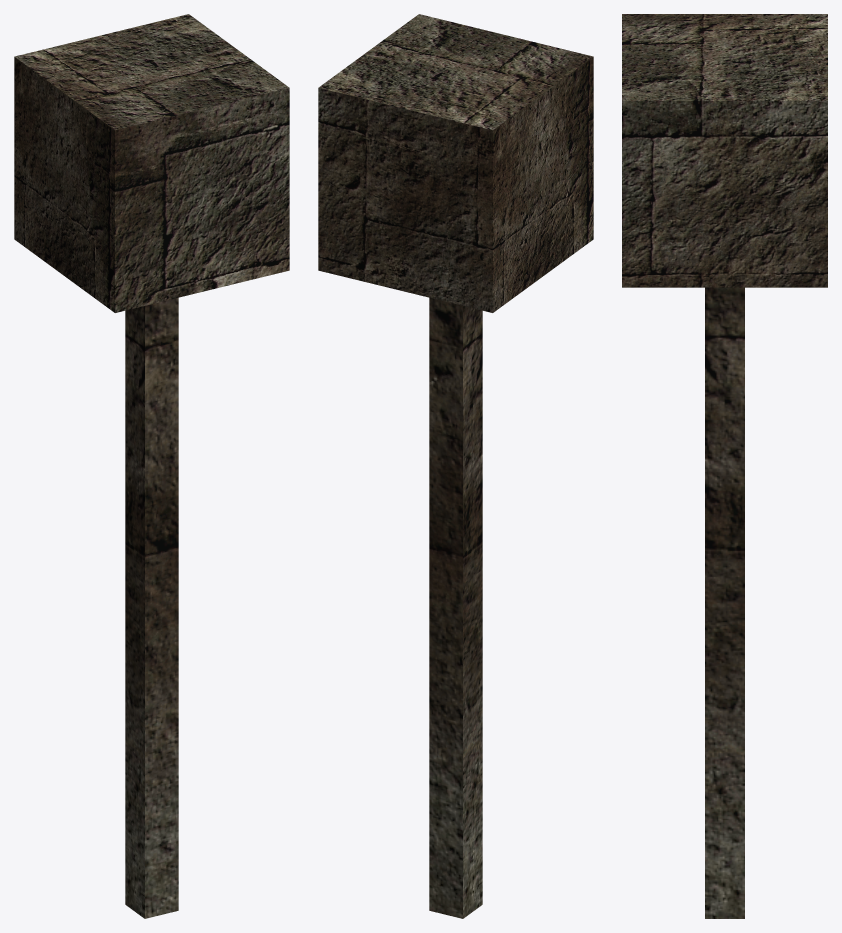
The model's file is brick_hammer.glb.
3 renders of one model, left to right at view 1: azimuth 30°, elevation 25°; view 2: azimuth 150°, elevation 25°; view 3: azimuth 270°, elevation 25°, orthographic. The views are drawn at different scales.
Parts seen in each view (by area): view 1: Cube.001, Cube; view 2: Cube.001, Cube; view 3: Cube.001, Cube.
Boxes of the visible parts, bbox=[...] form: Cube.001: bbox=[14, 14, 289, 312]; Cube: bbox=[125, 297, 178, 918]; Cube.001: bbox=[318, 14, 593, 312]; Cube: bbox=[429, 297, 482, 918]; Cube.001: bbox=[622, 14, 827, 287]; Cube: bbox=[705, 287, 744, 918].
Bounding box in the file's own units: 2 × 9.14 × 2.
2 materials, 2 textured.
